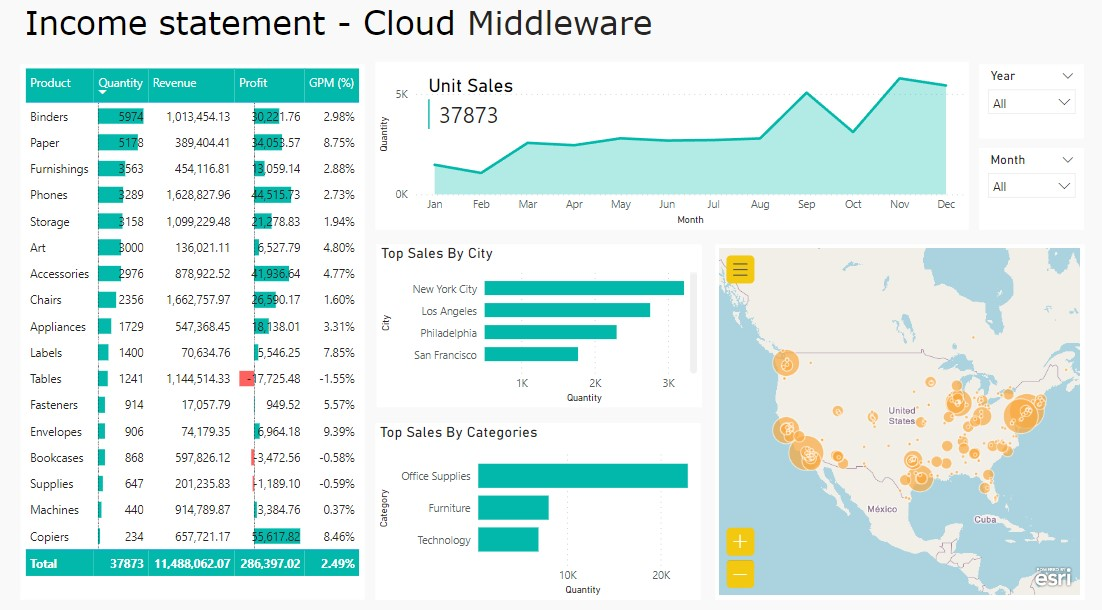

This screenshot's page, from the dashboard's own definition file:
{"tool":"powerbi","page":{"name":"Page 1","canvas":[1280,720],"ordinal":0},"visuals":[{"type":"tableEx","title":"Income Statement","fields":{"Values":["public transaction_clean.subcategory","Sum(public transaction_clean.quantity)","public transaction_clean.revenue","Sum(public transaction_clean.profit)","public transaction_clean.gpm"]},"box":[30,75,393.3,611.7],"z":0},{"type":"slicer","fields":{"Values":["public transaction_clean.Year"]},"box":[1125,75,120,85],"z":1000},{"type":"slicer","fields":{"Values":["public transaction_clean.Month"]},"box":[1125,171.7,120,93.3],"z":2000},{"type":"areaChart","fields":{"Y":["Sum(public transaction_clean.Quantity)"],"Category":["public transaction_clean.Month"]},"box":[435,73.3,678.3,191.7],"z":3000},{"type":"textbox","box":[30,0,745,65],"z":4000},{"type":"esriVisual","title":"Total Sales by City","fields":{"Location":["public transaction_clean.City"],"Size":["Sum(public transaction_clean.Quantity)"]},"box":[824,282,422,406],"z":5000},{"type":"multiRowCard","title":"Unit Sales","fields":{"Values":["Sum(public transaction_clean.Quantity)"]},"box":[491.7,86.7,190,73.3],"z":6000},{"type":"clusteredBarChart","title":"Top Sales By Categories","fields":{"Y":["Sum(public transaction_clean.Quantity)"],"Category":["public transaction_clean.Ctegory"]},"box":[436,486,372,202],"z":6001},{"type":"clusteredBarChart","title":"Top Sales By City","fields":{"Category":["public transaction_clean.City"],"Y":["Sum(public transaction_clean.Quantity)"]},"box":[436.7,281.7,371.7,186.7],"z":6002}]}

Visuals, with their boxes in screenshot pixels (x1, y1, x2, y2), scaled from the page's 1280x720 canvas onto the 1102x610 screenshot:
"Income Statement" tableEx: select_region(26, 64, 364, 582)
slicer - public transaction_clean.Year: select_region(969, 64, 1072, 136)
slicer - public transaction_clean.Month: select_region(969, 145, 1072, 225)
areaChart - Sum(public transaction_clean.Quantity) x public transaction_clean.Month: select_region(375, 62, 958, 225)
textbox: select_region(26, 0, 667, 55)
"Total Sales by City" esriVisual: select_region(709, 239, 1073, 583)
"Unit Sales" multiRowCard: select_region(423, 73, 587, 136)
"Top Sales By Categories" clusteredBarChart: select_region(375, 412, 696, 583)
"Top Sales By City" clusteredBarChart: select_region(376, 239, 696, 397)
